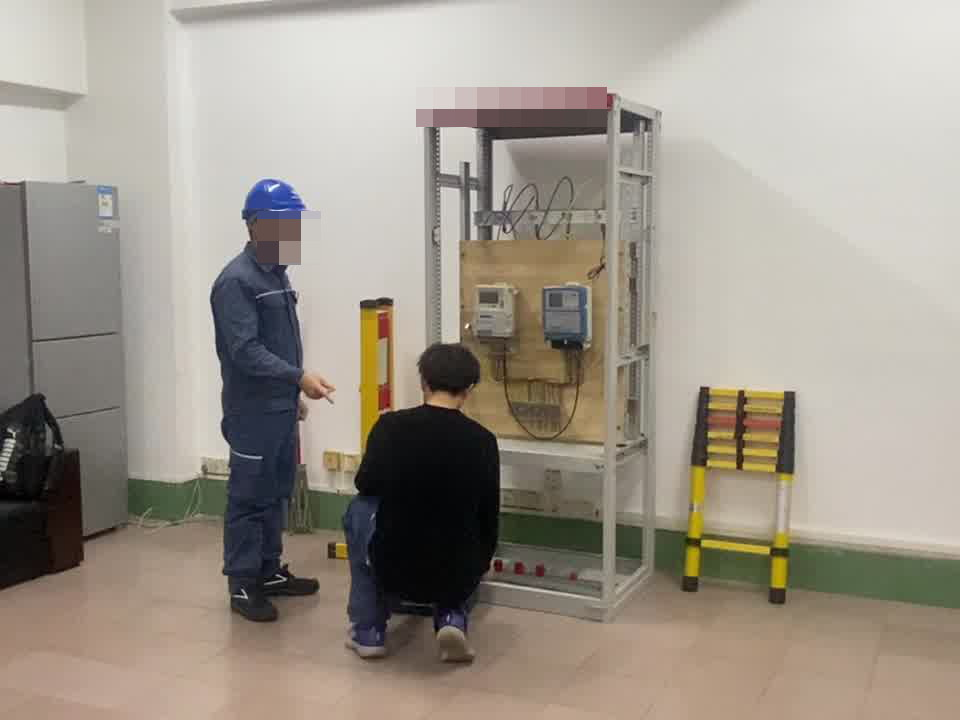downsuit: (219, 418, 298, 584), (343, 503, 384, 635)
halt: (241, 176, 312, 258)
hand: (297, 367, 337, 406)
inear: (245, 213, 276, 251)
person: (208, 175, 340, 622), (348, 343, 515, 664)
unhalt: (417, 344, 483, 405)
upcloth: (362, 404, 500, 612)
upsuit: (208, 239, 305, 403)
